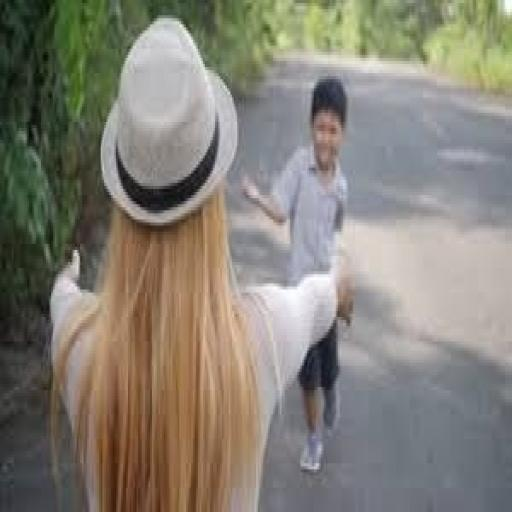hugging: (46, 12, 358, 509), (239, 70, 355, 479)
